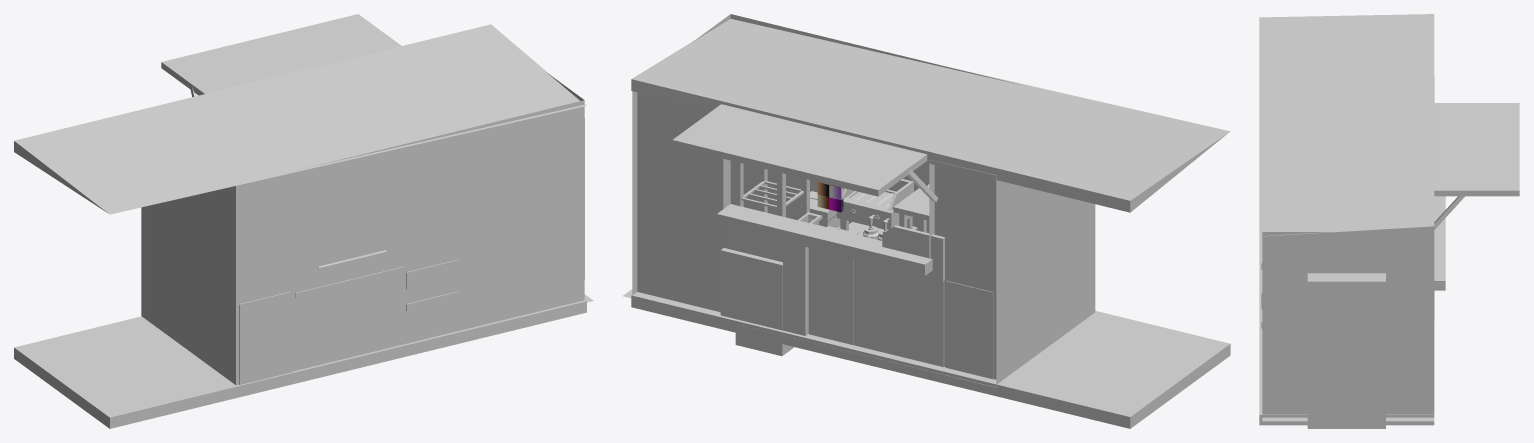
The model's file is scenejeu.fbx.
3 renders of one model, left to right at view 1: azimuth 30°, elevation 25°; view 2: azimuth 150°, elevation 25°; view 3: azimuth 270°, elevation 25°, orthographic. The views are drawn at different scales.
Visible parts, largest first — view 1: Cube.003, Cube.004, Cube.001, Cube.006, Cube.005, Cube.036, Cube.025; view 2: Cube.004, Cube.003, Cube.001, Cube.006, Cube, Cube.013, Cube.024, Cube.011, Cube.009, Cube.018, Cube.010, Cube.045 (+5 smaller); view 3: Cube.004, Cube.003, Cube.006, Cube.001, Cube.
Boxes of the visible parts, box(x1,y1,x2,y2) form: Cube.003: box(141, 73, 593, 385); Cube.004: box(14, 24, 586, 214); Cube.001: box(14, 300, 586, 428); Cube.006: box(161, 14, 401, 95); Cube.005: box(239, 291, 291, 384); Cube.036: box(406, 259, 458, 289); Cube.025: box(295, 266, 404, 297); Cube.004: box(631, 19, 1229, 212); Cube.003: box(622, 14, 1095, 387); Cube.001: box(631, 292, 1230, 428); Cube.006: box(672, 104, 927, 196); Cube: box(717, 204, 932, 275); Cube.013: box(720, 248, 794, 355); Cube.024: box(945, 280, 993, 379); Cube.011: box(809, 226, 863, 345); Cube.009: box(899, 271, 944, 367); Cube.018: box(854, 259, 898, 356); Cube.010: box(783, 225, 824, 335); Cube.045: box(882, 225, 944, 281); Cube.004: box(1259, 14, 1434, 236); Cube.003: box(1262, 77, 1434, 428); Cube.006: box(1434, 103, 1519, 196); Cube.001: box(1259, 236, 1434, 425); Cube: box(1434, 196, 1445, 290).
Size of the model in its own units: 620 by 282 by 306.
